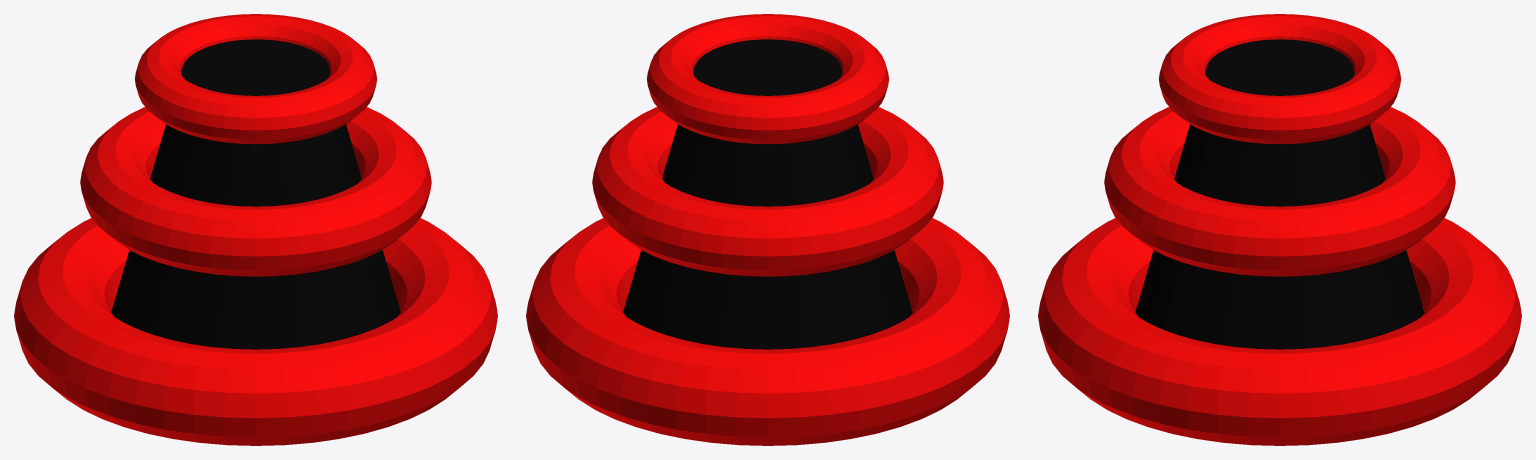
Rendered from Piros torony also.glb.
3 views of the same model, side by side, from view 1: azimuth 30°, elevation 25°; view 2: azimuth 150°, elevation 25°; view 3: azimuth 270°, elevation 25° (orthographic).
Parts seen in each view (by area): view 1: Cylinder; view 2: Cylinder; view 3: Cylinder.
Boxes of the visible parts, bbox=[...] form: Cylinder: bbox=[14, 14, 497, 445]; Cylinder: bbox=[526, 14, 1009, 445]; Cylinder: bbox=[1038, 14, 1521, 445].
Size of the model in its own units: 3.12 by 2.15 by 3.12.
